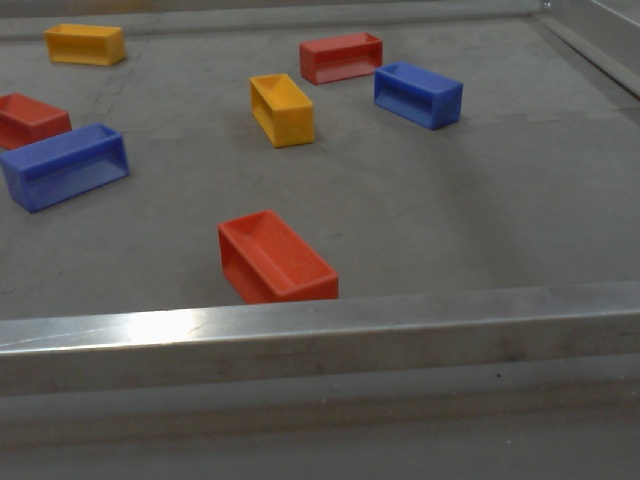BlueSample: (2, 123, 131, 215), (370, 57, 465, 135)
RedSample: (216, 206, 346, 304), (293, 29, 385, 86), (1, 90, 71, 151)
YellowSample: (243, 70, 319, 152), (43, 20, 130, 71)
